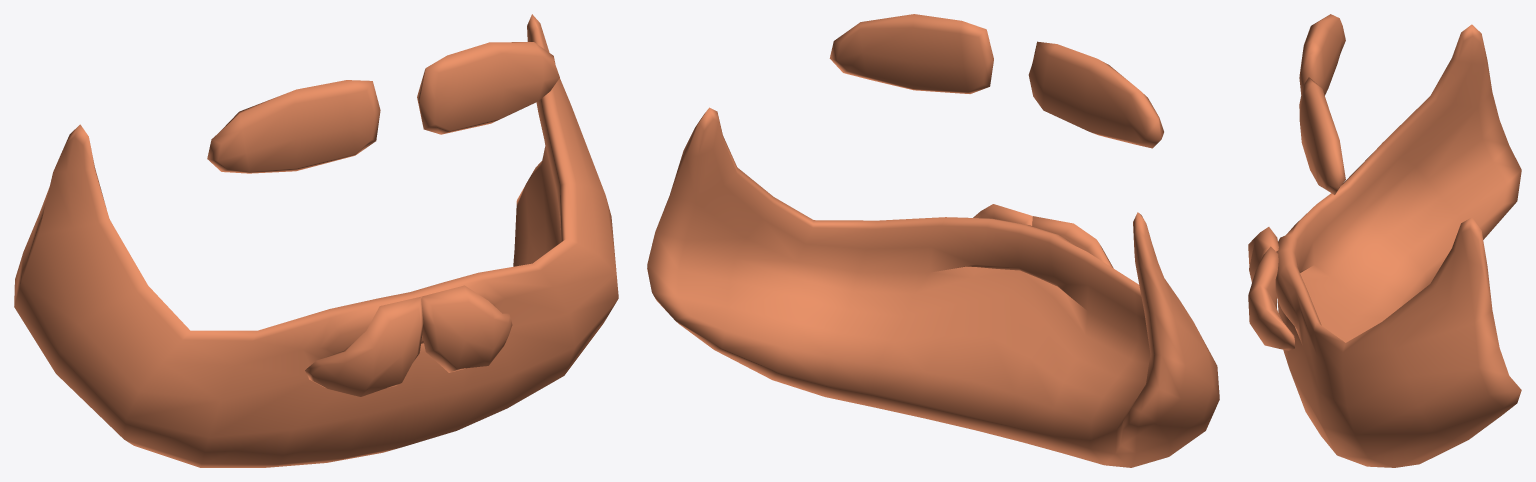
The model's file is sac02.fbx.
3 renders of one model, left to right at view 1: azimuth 30°, elevation 25°; view 2: azimuth 150°, elevation 25°; view 3: azimuth 270°, elevation 25°, orthographic. The views are drawn at different scales.
Visible parts, largest first — view 1: sac02; view 2: sac02; view 3: sac02.
Part boxes in pixels (x1,y1,x2,y2): sac02: (14, 14, 618, 467); sac02: (647, 14, 1219, 467); sac02: (1248, 14, 1521, 467).
Size of the model in its own units: 3.91 by 2.62 by 1.88.
